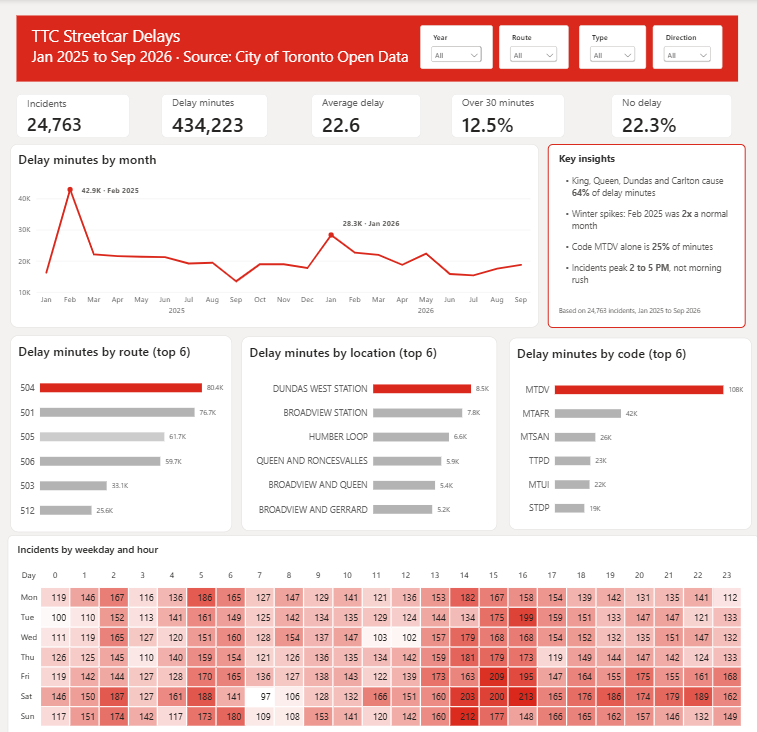

This screenshot's page, from the dashboard's own definition file:
{"tool":"powerbi","page":{"name":"Page 1","canvas":[1230,1200],"ordinal":0},"visuals":[{"type":"shape","box":[16.7,16.7,1185,126.7],"z":0},{"type":"clusteredBarChart","title":"Delay minutes by route (top 6)","fields":{"Category":["Fact_Delays.Route"],"Y":["_Measures.Total Delay Min"]},"box":[18.6,540,356.5,316.7],"z":1000},{"type":"clusteredBarChart","title":"Delay minutes by location (top 6)","fields":{"Category":["Fact_Delays.Location"],"Y":["_Measures.Total Delay Min"]},"box":[390,542.9,411.4,312.9],"z":2000},{"type":"textbox","box":[40,30,641.7,95],"z":3000},{"type":"slicer","fields":{"Values":["Dim_Date.Year"]},"box":[676.7,41.7,116.7,70],"z":4000},{"type":"slicer","fields":{"Values":["Fact_Delays.Route"]},"box":[805,41.7,111.7,70],"z":5000},{"type":"slicer","fields":{"Values":["Fact_Delays.Route Type"]},"box":[933.3,41.7,108.3,70],"z":6000},{"type":"slicer","fields":{"Values":["Fact_Delays.Direction"]},"box":[1051.7,41.7,111.7,70],"z":7000},{"type":"cardVisual","title":"Incidents","fields":{"Data":["_Measures.Total Incidents"]},"box":[16.7,143.3,206.7,90],"z":8000},{"type":"cardVisual","fields":{"Data":["_Measures.Total Delay Min"]},"box":[248.3,143.3,195,90],"z":9000},{"type":"cardVisual","fields":{"Data":["_Measures.Avg Delay Min"]},"box":[490,143.3,200,90],"z":10000},{"type":"cardVisual","fields":{"Data":["_Measures.% Over 30 Min"]},"box":[715,143.3,206.7,90],"z":11000},{"type":"lineChart","title":"Delay minutes by month","fields":{"Category":["Dim_Date.Year","Dim_Date.Month"],"Y":["_Measures.Total Delay Min"]},"box":[18.3,233.3,850,295],"z":12000},{"type":"cardVisual","fields":{"Data":["_Measures.% No Delay"]},"box":[972.9,142.9,218.6,90],"z":13000},{"type":"clusteredBarChart","title":"Delay minutes by code (top 6)","fields":{"Category":["Fact_Delays.Code"],"Y":["_Measures.Total Delay Min"]},"box":[820,545.7,390,308.6],"z":14000},{"type":"pivotTable","title":"Incidents by weekday and hour","fields":{"Columns":["Fact_Delays.Hour"],"Rows":["Dim_Date.Weekday"],"Values":["_Measures.Total Incidents"]},"box":[14.1,862.6,1208.5,329.8],"z":15000},{"type":"textbox","box":[120,290,140,38.3],"z":16000},{"type":"textbox","box":[540,341.7,137.2,39.2],"z":17000},{"type":"textbox","box":[882.9,232.9,318.6,295.7],"z":19000}]}

Visuals, with their boxes in screenshot pixels (x1, y1, x2, y2), scaled from the page's 1230x1200 canvas onto the 757x732 screenshot:
shape: <region>10, 10, 740, 87</region>
"Delay minutes by route (top 6)" clusteredBarChart: <region>11, 329, 231, 523</region>
"Delay minutes by location (top 6)" clusteredBarChart: <region>240, 331, 493, 522</region>
textbox: <region>25, 18, 420, 76</region>
slicer - Dim_Date.Year: <region>416, 25, 488, 68</region>
slicer - Fact_Delays.Route: <region>495, 25, 564, 68</region>
slicer - Fact_Delays.Route Type: <region>574, 25, 641, 68</region>
slicer - Fact_Delays.Direction: <region>647, 25, 716, 68</region>
"Incidents" cardVisual: <region>10, 87, 137, 142</region>
cardVisual - _Measures.Total Delay Min: <region>153, 87, 273, 142</region>
cardVisual - _Measures.Avg Delay Min: <region>302, 87, 425, 142</region>
cardVisual - _Measures.% Over 30 Min: <region>440, 87, 567, 142</region>
"Delay minutes by month" lineChart: <region>11, 142, 534, 322</region>
cardVisual - _Measures.% No Delay: <region>599, 87, 733, 142</region>
"Delay minutes by code (top 6)" clusteredBarChart: <region>505, 333, 745, 521</region>
"Incidents by weekday and hour" pivotTable: <region>9, 526, 752, 727</region>
textbox: <region>74, 177, 160, 200</region>
textbox: <region>332, 208, 417, 232</region>
textbox: <region>543, 142, 739, 322</region>
